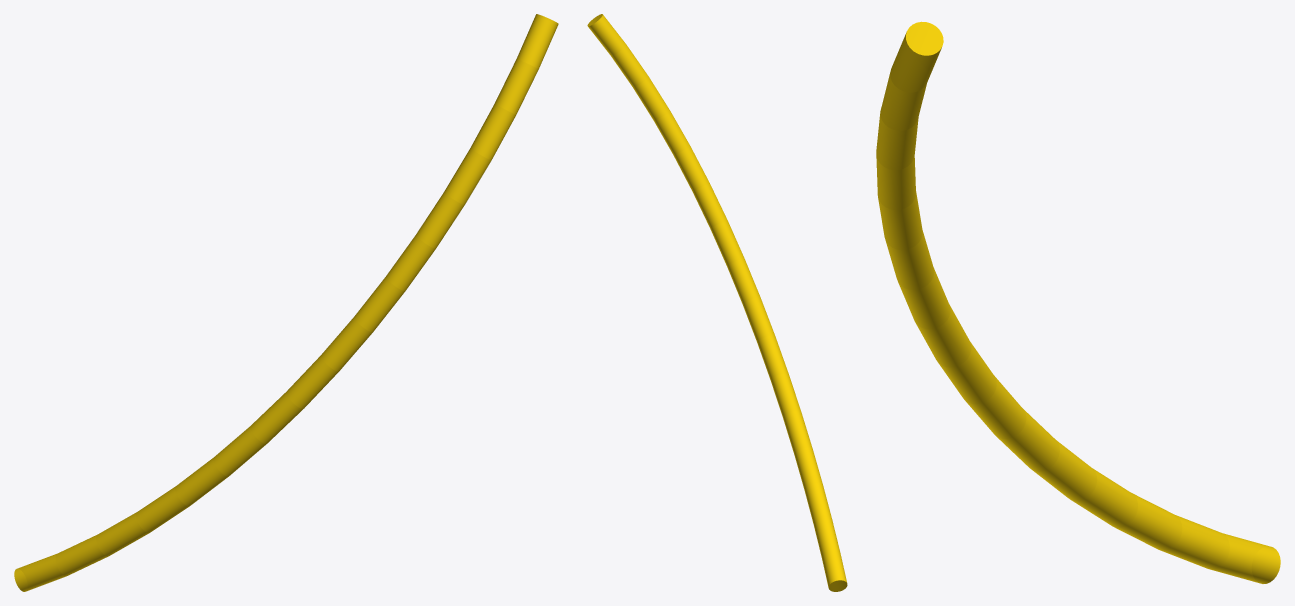
Rendered from Event_421364160_track_27.fbx.
3 renders of one model, left to right at view 1: azimuth 30°, elevation 25°; view 2: azimuth 150°, elevation 25°; view 3: azimuth 270°, elevation 25°, orthographic. The views are drawn at different scales.
Visible parts, largest first — view 1: Model; view 2: Model; view 3: Model.
Boxes of the visible parts, x1,y1,x2,y2 form: Model: (14,14,558,591); Model: (587,14,847,591); Model: (876,21,1280,583).
Bounding box in the file's own units: 0.817 × 0.9969 × 0.4187.
